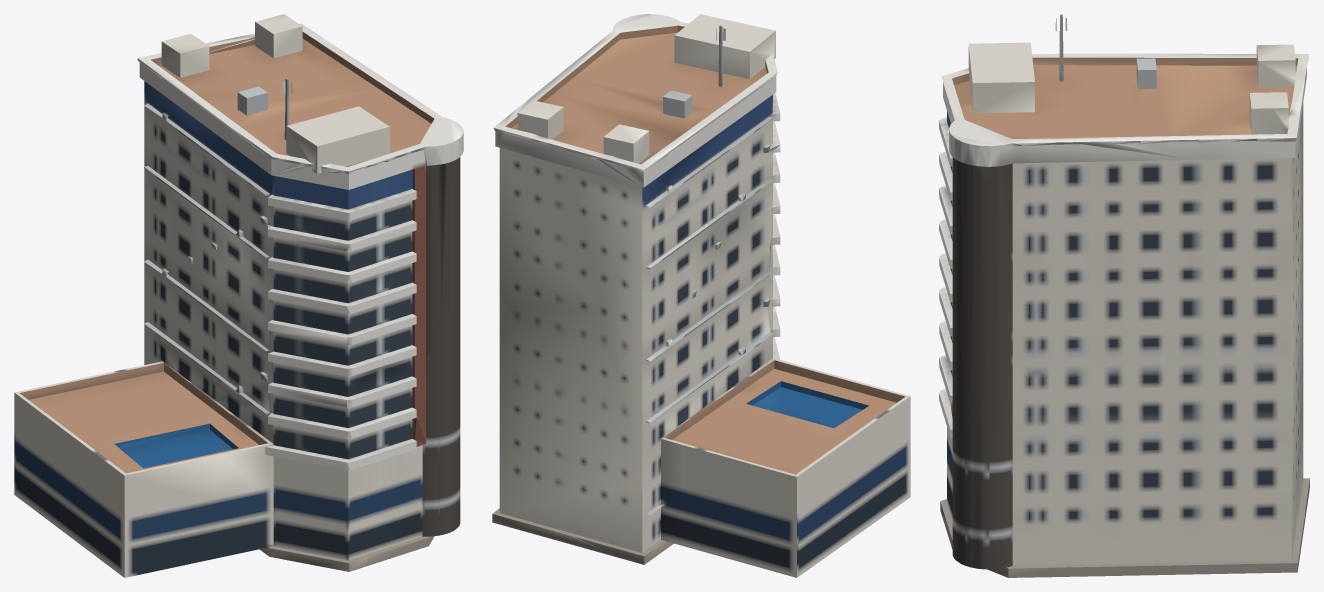
The model's file is khach_san_buu_dien.far.glb.
The picture shows the model from 3 angles, left to right: view 1: azimuth 30°, elevation 25°; view 2: azimuth 150°, elevation 25°; view 3: azimuth 270°, elevation 25°; orthographic projection. The views are drawn at different scales.
Visible parts, largest first — view 1: khach_san_buu_dien; view 2: khach_san_buu_dien; view 3: khach_san_buu_dien.
Boxes of the visible parts, x1,y1,x2,y2 form: khach_san_buu_dien: (14,14,463,577); khach_san_buu_dien: (492,14,910,577); khach_san_buu_dien: (939,14,1309,577).
Bounding box in the file's own units: 38.08 × 52.3 × 35.68.
Materials: 2 (2 with a texture image).
